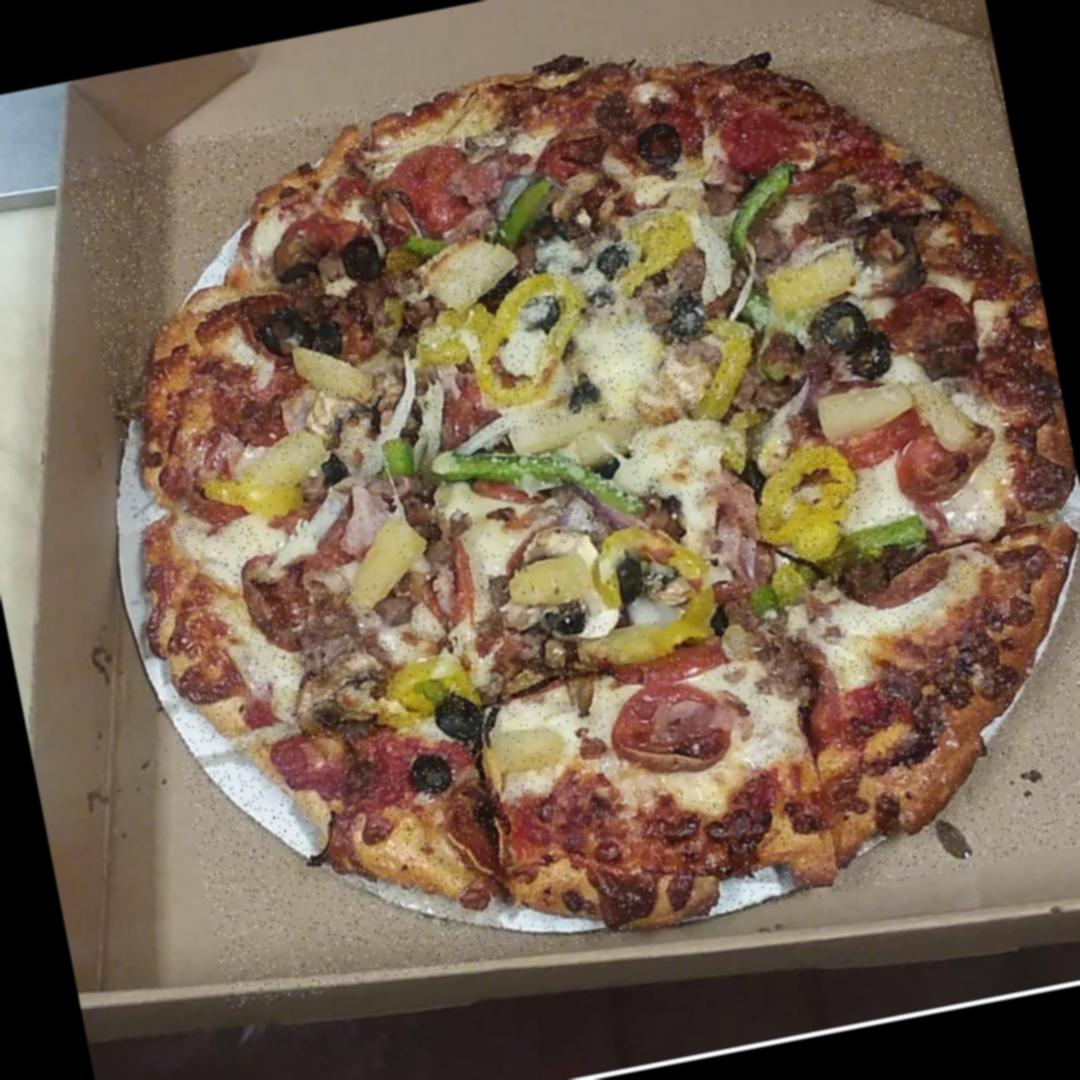Mushroom: (278, 636, 402, 750), (844, 206, 940, 310), (638, 265, 718, 352), (260, 216, 345, 285)
Olives: (831, 322, 900, 391), (431, 679, 498, 749), (333, 224, 402, 286), (256, 298, 319, 365), (634, 111, 694, 178), (406, 743, 467, 808), (813, 300, 880, 354)
Onion: (252, 472, 398, 576), (367, 349, 458, 466), (684, 217, 742, 315), (545, 488, 605, 548)
Peppers: (419, 413, 642, 560), (589, 502, 739, 670), (458, 262, 602, 424), (747, 510, 941, 609), (747, 436, 874, 569), (683, 309, 773, 430), (362, 648, 484, 728), (724, 168, 807, 272), (616, 205, 704, 294), (485, 170, 569, 262), (374, 220, 458, 281), (375, 428, 427, 492)
Pineapple: (502, 390, 638, 486), (504, 537, 615, 633), (340, 514, 441, 614), (418, 223, 524, 312), (760, 243, 871, 326), (280, 326, 377, 417), (908, 363, 992, 464), (238, 422, 344, 502), (802, 374, 926, 442), (480, 712, 582, 783)
Pizza: (64, 0, 1080, 1010)
Tomatoes: (602, 662, 747, 799), (376, 132, 514, 250), (882, 277, 1000, 397), (892, 416, 990, 515), (717, 107, 810, 184)
